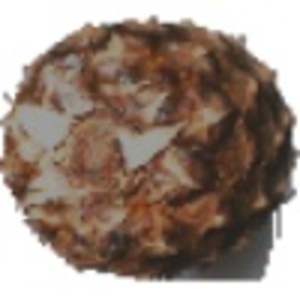abacaxi: (4, 17, 294, 274)
